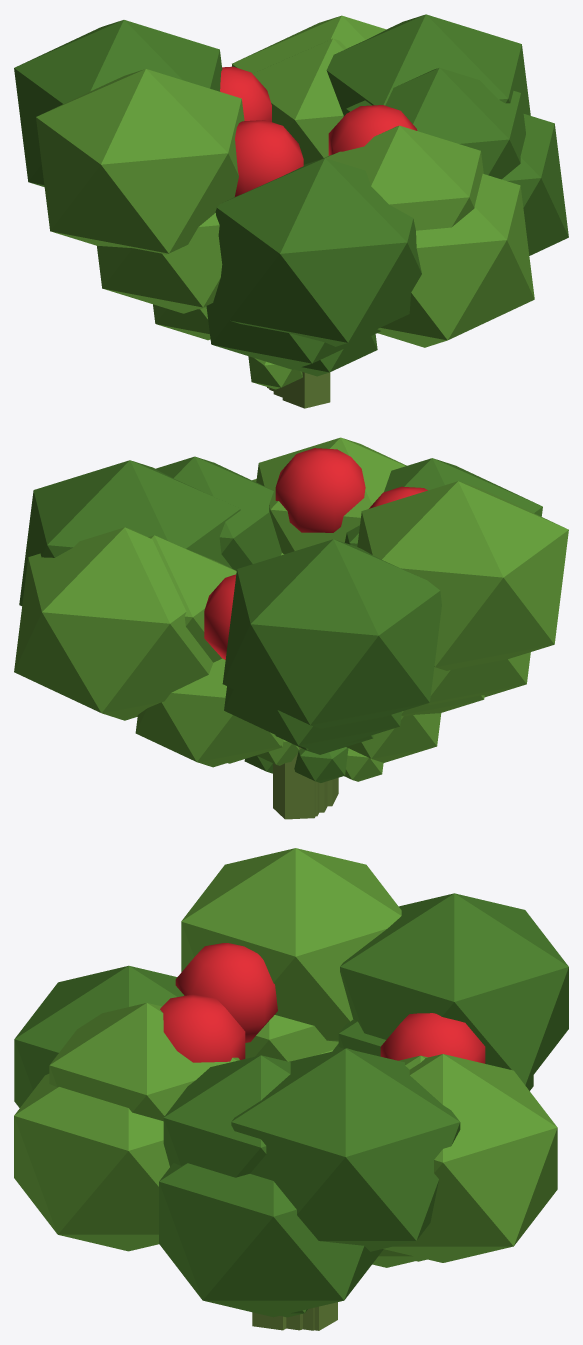
File: Crop_Fruit_Strawberry.fbx
3 views of the same model, one above another, from view 1: azimuth 30°, elevation 25°; view 2: azimuth 150°, elevation 25°; view 3: azimuth 270°, elevation 25° (orthographic). The views are drawn at different scales.
Parts seen in each view (by area): view 1: Crop_Fruit_Strawberry__S4, Crop_Fruit_Strawberry__S3, Crop_Fruit_Strawberry__S2, Crop_Fruit_Strawberry__S1; view 2: Crop_Fruit_Strawberry__S4, Crop_Fruit_Strawberry__S3, Crop_Fruit_Strawberry__S5, Crop_Fruit_Strawberry__S1, Crop_Fruit_Strawberry__S2; view 3: Crop_Fruit_Strawberry__S4, Crop_Fruit_Strawberry__S3, Crop_Fruit_Strawberry__S5.
Boxes of the visible parts, bbox=[...] form: Crop_Fruit_Strawberry__S4: bbox=[14, 14, 568, 388]; Crop_Fruit_Strawberry__S3: bbox=[97, 38, 525, 391]; Crop_Fruit_Strawberry__S2: bbox=[153, 304, 377, 397]; Crop_Fruit_Strawberry__S1: bbox=[248, 356, 330, 408]; Crop_Fruit_Strawberry__S4: bbox=[14, 448, 568, 819]; Crop_Fruit_Strawberry__S3: bbox=[148, 437, 530, 816]; Crop_Fruit_Strawberry__S5: bbox=[135, 553, 484, 767]; Crop_Fruit_Strawberry__S1: bbox=[244, 740, 383, 806]; Crop_Fruit_Strawberry__S2: bbox=[228, 713, 441, 812]; Crop_Fruit_Strawberry__S4: bbox=[14, 848, 568, 1330]; Crop_Fruit_Strawberry__S3: bbox=[49, 1003, 533, 1330]; Crop_Fruit_Strawberry__S5: bbox=[286, 1043, 427, 1330].
Bounding box in the file's own units: 0.1131 × 0.0785 × 0.101.
